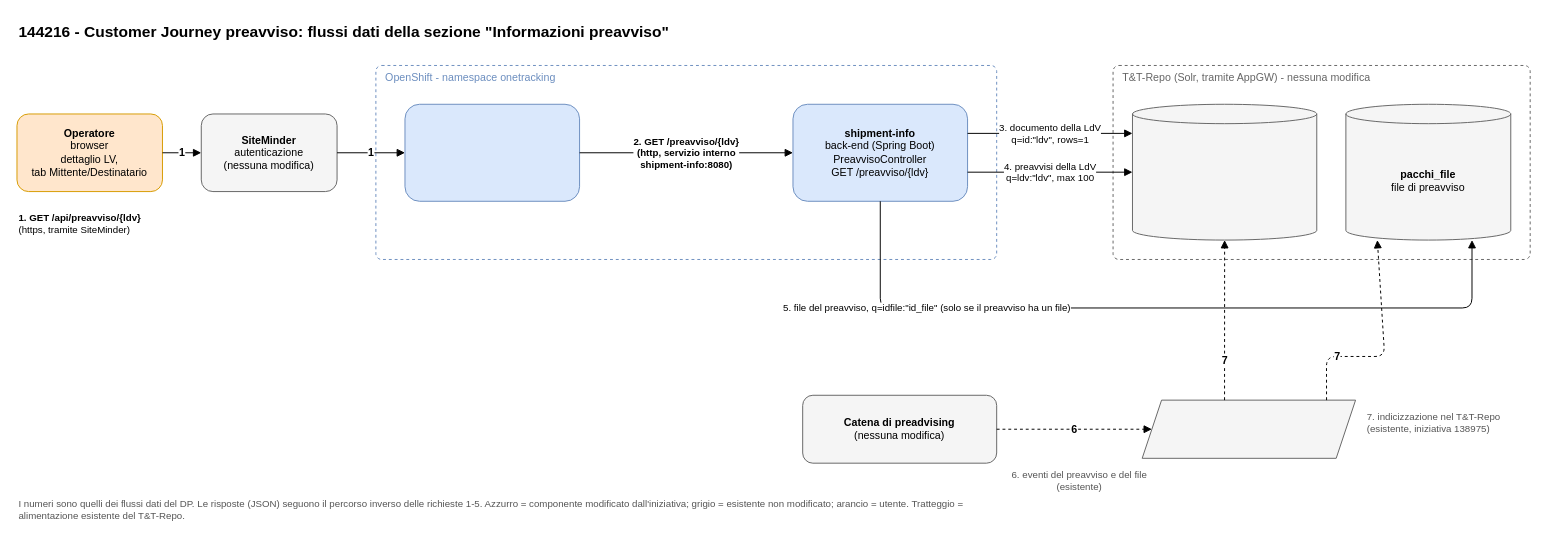
This 1557x547 diagram has some shape labels left out. The shapes that lost their labels are listed below. From the top down, each one's centre as x and y in pixels, then its label:
the point at 492,152: portal-pages front-end (Nuxt 3) InfoPreavviso.vue proxy /api
the point at 1224,171: pacchi_anagrafica documento della LdV documenti di preavviso
the point at 1248,428: topic Kafka preadvising.evensource
